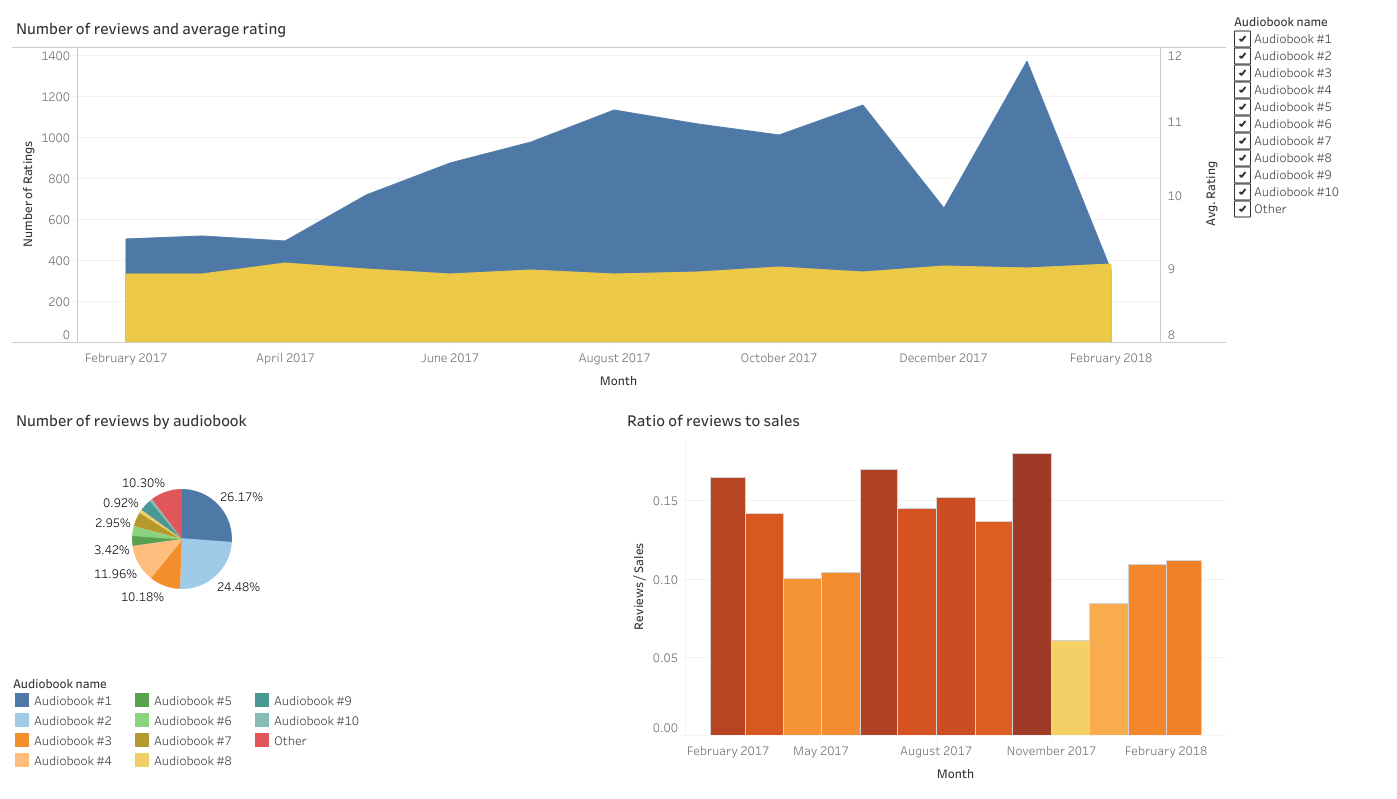

The page's visual inventory and layout, read from the dashboard file:
{"tool":"tableau","page":{"name":"Dashboard 1","canvas":[1000,1000],"units":"permille","ordinal":0},"visuals":[{"type":"worksheet","title":"Chart 1","mark":"Area","rows":["Rating","Rating"],"cols":["Date of Purchase"],"box":[4.7,8.8,897,491.2]},{"type":"filter","title":"Chart 2","param":"[federated.0fk6rr100qgsr917hw0lt055k0ru].[none:Audiobook name:nk]","box":[901.7,8.8,93.6,287.6]},{"type":"worksheet","title":"Chart 2","mark":"Pie","box":[4.7,500,448.5,337]},{"type":"worksheet","title":"Chart 3","mark":"Bar","rows":["Calculation_896497824909074440"],"cols":["Date of Purchase"],"box":[453.2,500,448.5,491.2]},{"type":"legend","title":"Chart 2","param":"[federated.0fk6rr100qgsr917hw0lt055k0ru].[none:Audiobook name:nk]","box":[4.7,837,448.5,154.1]}]}

Visuals, with their boxes on the dashboard's canvas, which has no fixed pixel size, in thousandths of its width and height (x1, y1, x2, y2). These are canvas units, not pixel positions in the 1397x799 screenshot, which may show the page scaled, cropped or inside an application window:
"Chart 1" worksheet (Area marks): (5,9,902,500)
"Chart 2" filter: (902,9,995,296)
"Chart 2" worksheet (Pie marks): (5,500,453,837)
"Chart 3" worksheet (Bar marks): (453,500,902,991)
"Chart 2" legend: (5,837,453,991)
